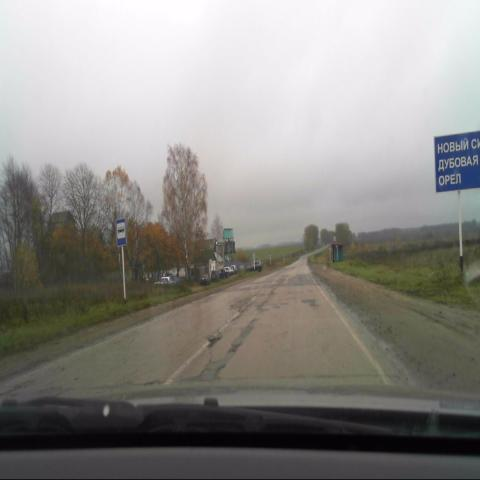5_16: (116, 218, 126, 248)
